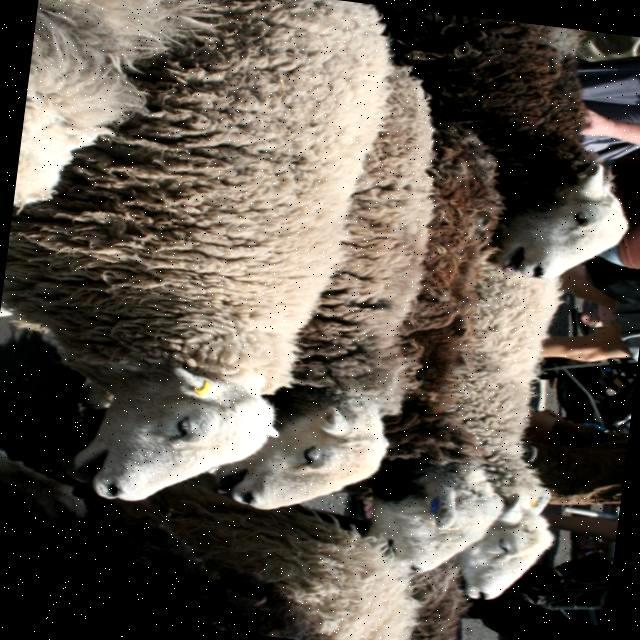sheep: (3, 0, 392, 502), (357, 125, 511, 573), (379, 11, 628, 277), (0, 449, 329, 640), (149, 489, 420, 640), (15, 0, 204, 209), (453, 263, 561, 597), (409, 557, 469, 640)
